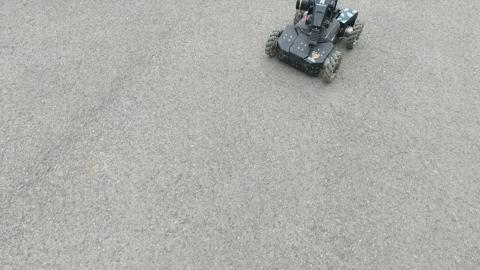chariot: (263, 1, 365, 85)
